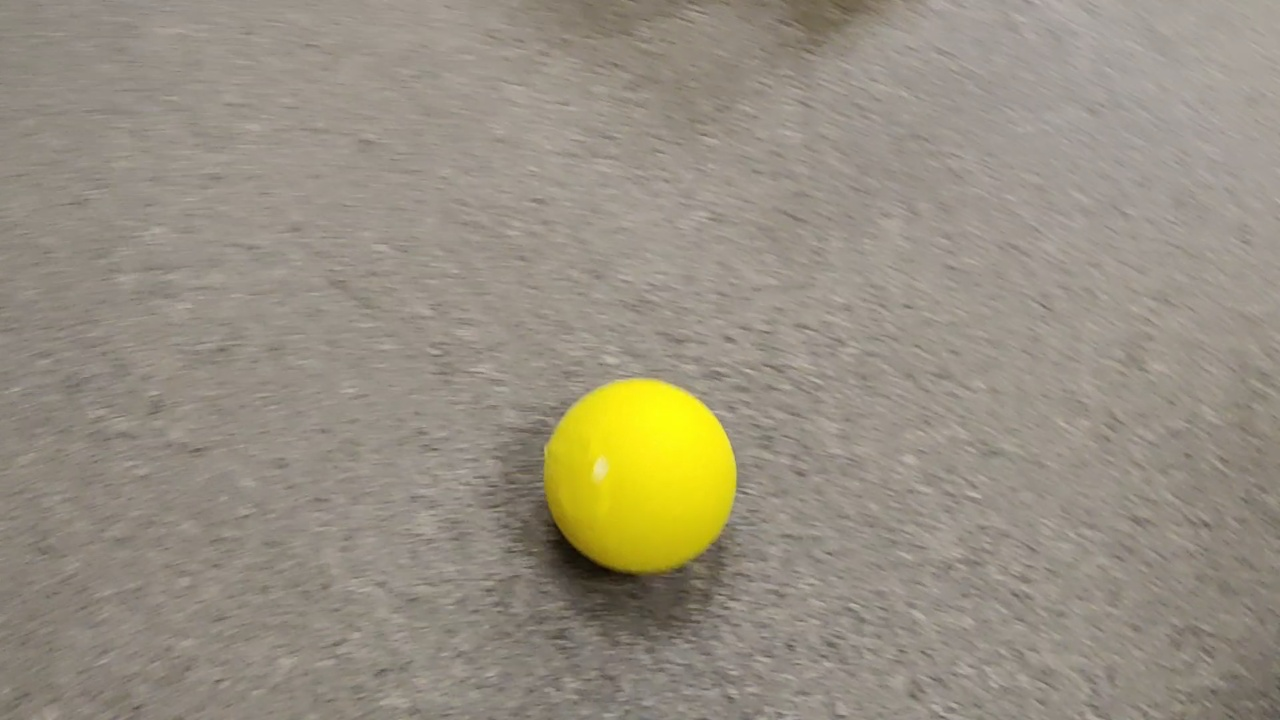Ball: (545, 378, 738, 572)
